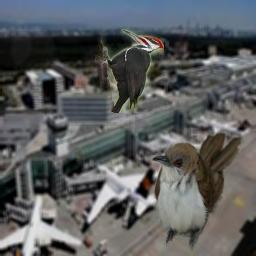Cuckoo: (151, 131, 242, 251)
Woodpecker: (95, 29, 164, 113)
